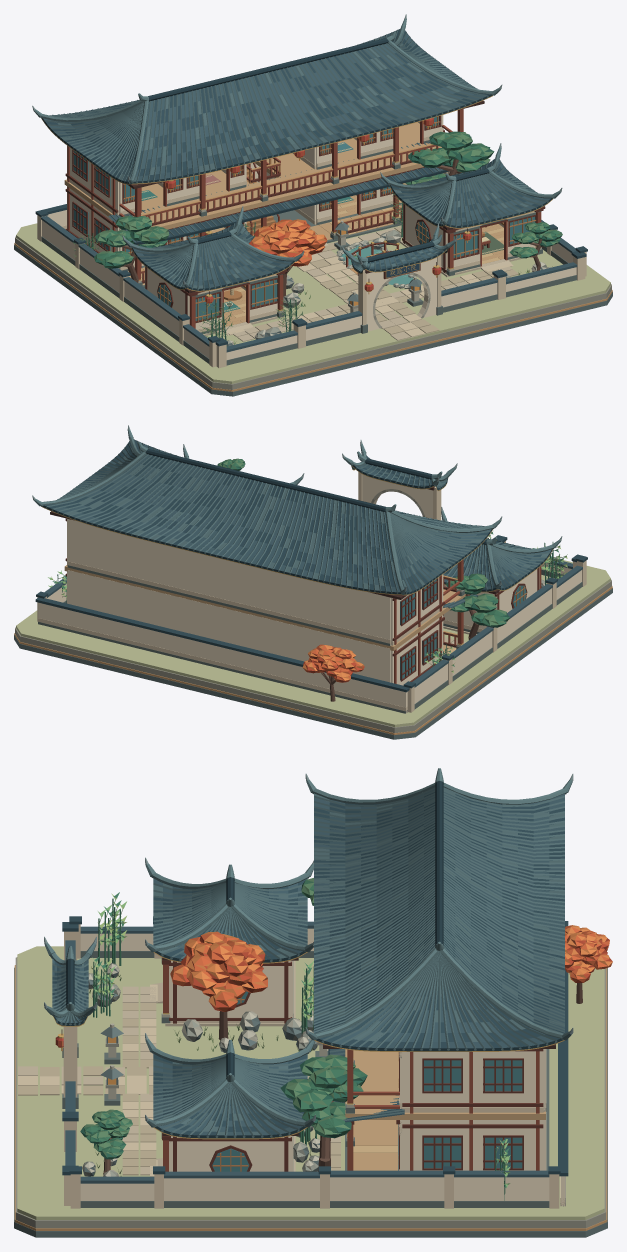
The model's file is ninglu-courtyard.glb.
3 views of the same model, one above another, from view 1: azimuth 30°, elevation 25°; view 2: azimuth 150°, elevation 25°; view 3: azimuth 270°, elevation 25° (orthographic). The views are drawn at different scales.
Parts seen in each view (by area): view 1: SM_Main_Roof, SM_Ground, SM_Moon_Gate, SM_Garden_Trees, SM_L2_Floor, SM_Tea_Roof, SM_Pet_Roof, SM_Garden_Walls, SM_Walkways, SM_L2_Gallery, SM_L2_Walls, SM_Pet_Shell (+11 smaller); view 2: SM_Main_Roof, SM_Ground, SM_L2_Walls, SM_Garden_Walls, SM_L1_Walls, SM_Garden_Trees, SM_Moon_Gate, SM_Exterior_Trim, SM_Pet_Roof, SM_L2_Floor, SM_Pet_Shell, SM_L1_Gallery (+1 smaller); view 3: SM_Main_Roof, SM_Ground, SM_Garden_Walls, SM_Garden_Trees, SM_Tea_Roof, SM_Pet_Roof, SM_Exterior_Trim, SM_Walkways, SM_Moon_Gate, SM_L2_Walls, SM_Planting, SM_Pet_Shell (+5 smaller).
Part boxes in pixels (x1,y1,x2,y2): SM_Main_Roof: (32,14,502,188); SM_Ground: (14,223,612,396); SM_Moon_Gate: (215,223,586,368); SM_Garden_Trees: (73,131,562,346); SM_L2_Floor: (64,122,441,229); SM_Tea_Roof: (380,143,562,230); SM_Pet_Roof: (122,206,304,293); SM_Garden_Walls: (35,171,587,367); SM_Walkways: (227,226,518,341); SM_L2_Gallery: (119,109,463,225); SM_L2_Walls: (67,115,443,215); SM_Pet_Shell: (145,266,287,335); SM_Main_Roof: (32,425,502,599); SM_Ground: (14,557,612,739); SM_L2_Walls: (67,518,443,645); SM_Garden_Walls: (35,555,587,713); SM_L1_Walls: (67,570,443,685); SM_Garden_Trees: (48,458,567,701); SM_Moon_Gate: (342,440,586,578); SM_Exterior_Trim: (65,518,539,683); SM_Pet_Roof: (441,507,562,594); SM_L2_Floor: (64,565,465,650); SM_Pet_Shell: (443,566,541,634); SM_L1_Gallery: (443,612,463,654); SM_Main_Roof: (305,768,573,1051); SM_Ground: (14,946,607,1237); SM_Garden_Walls: (69,916,568,1208); SM_Garden_Trees: (80,878,612,1200); SM_Tea_Roof: (145,1033,315,1139); SM_Pet_Roof: (145,857,313,963); SM_Exterior_Trim: (169,961,543,1171); SM_Walkways: (18,984,340,1176); SM_Moon_Gate: (44,922,96,1205); SM_L2_Walls: (398,1049,546,1112); SM_Planting: (82,963,328,1176); SM_Pet_Shell: (151,957,295,1026).
Size of the model in its own units: 25.2 by 10.48 by 23.1.
Materials: 1 (1 with a texture image).
